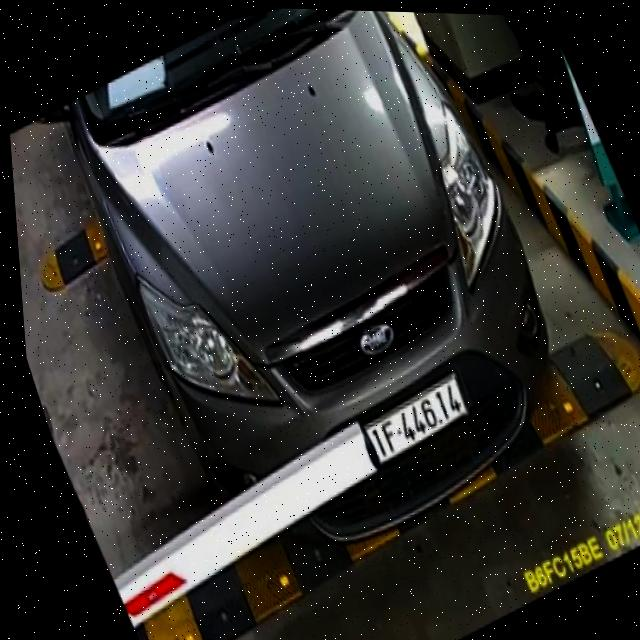car: (27, 8, 560, 557)
plate: (344, 364, 477, 484)
